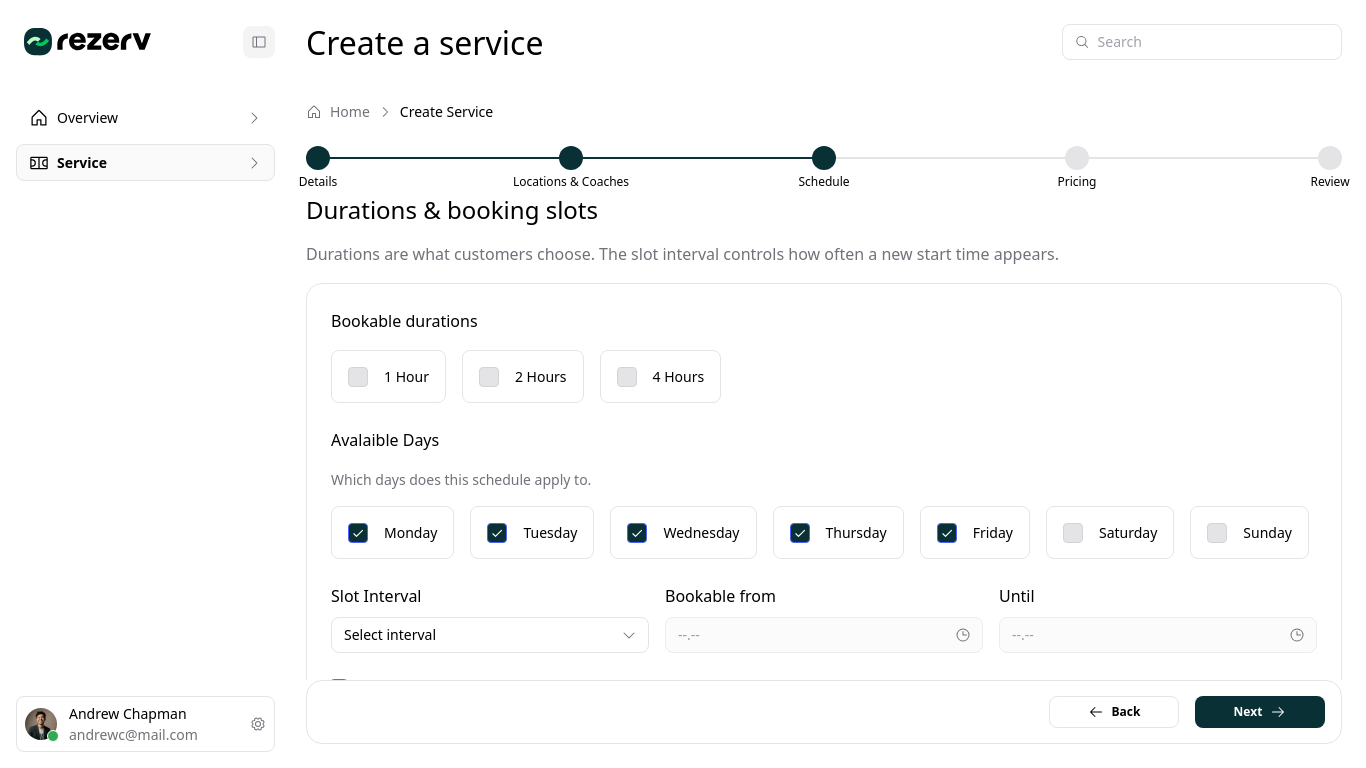
Test: the duration maths stays quiet until a package could never be booked
This screenshot has width=1366, height=768.
Expected: the dropdown labelled "Slot Interval" is shown, [331, 617, 649, 653]
Click the checkbox labelled "1 Hour": (388, 376) [331, 350, 446, 403]
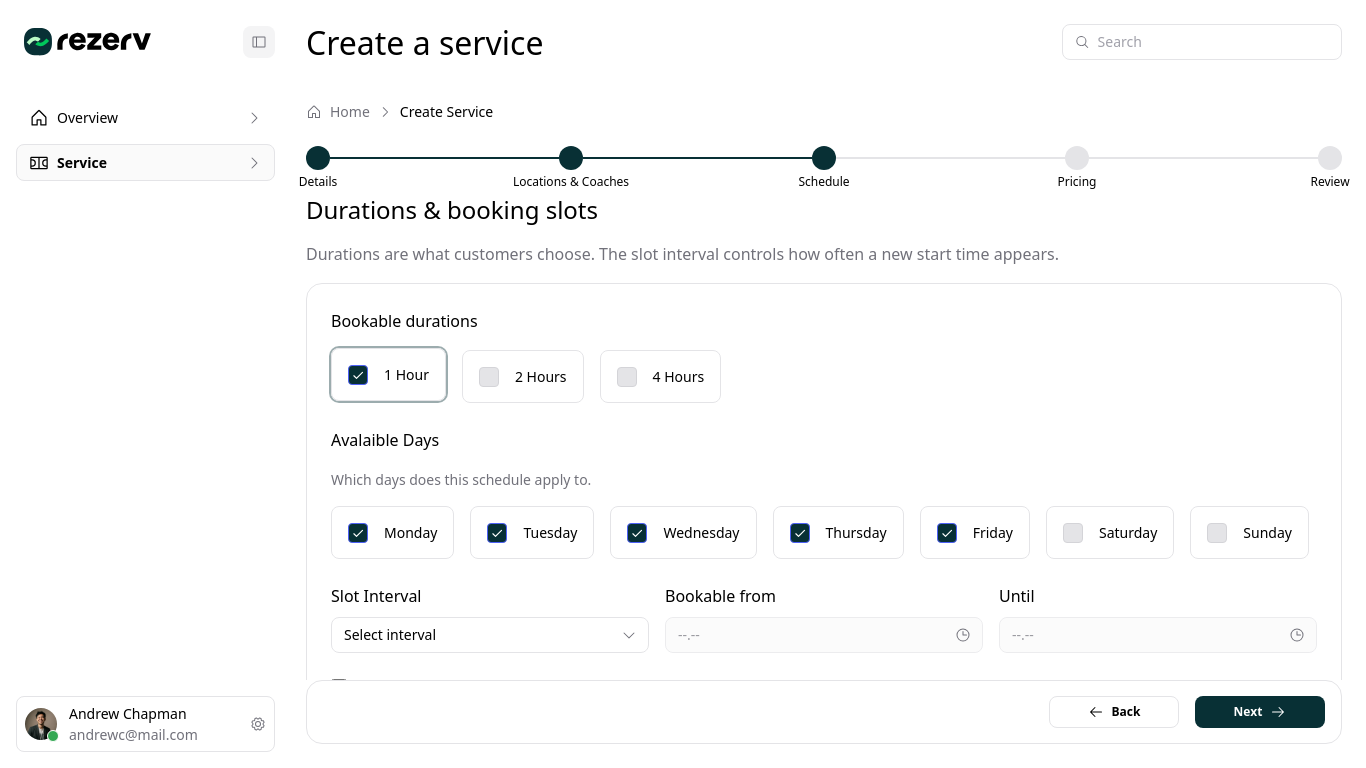
Click the checkbox labelled "4 Hours": (660, 376) [600, 350, 721, 403]
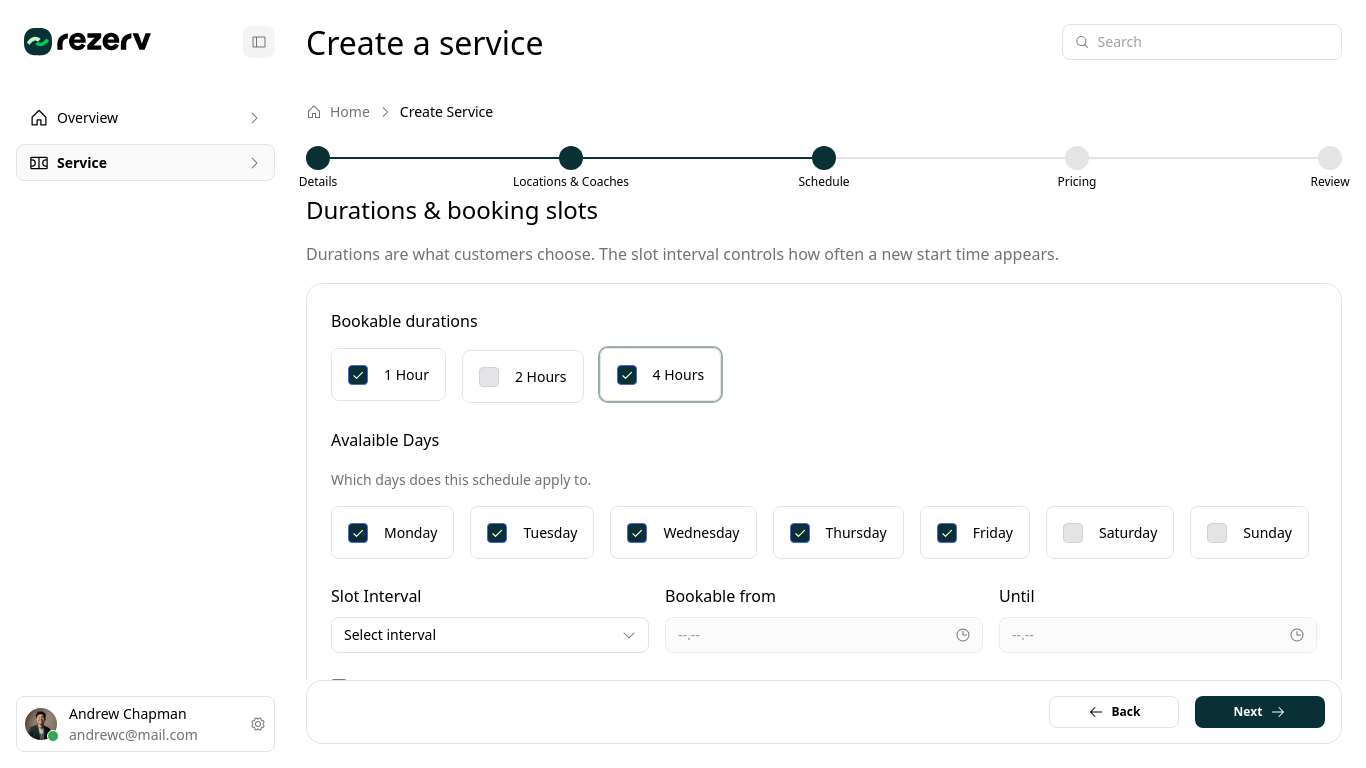
Select "Every Hour" in the dropdown labelled "Slot Interval": (490, 635) [331, 617, 649, 653]
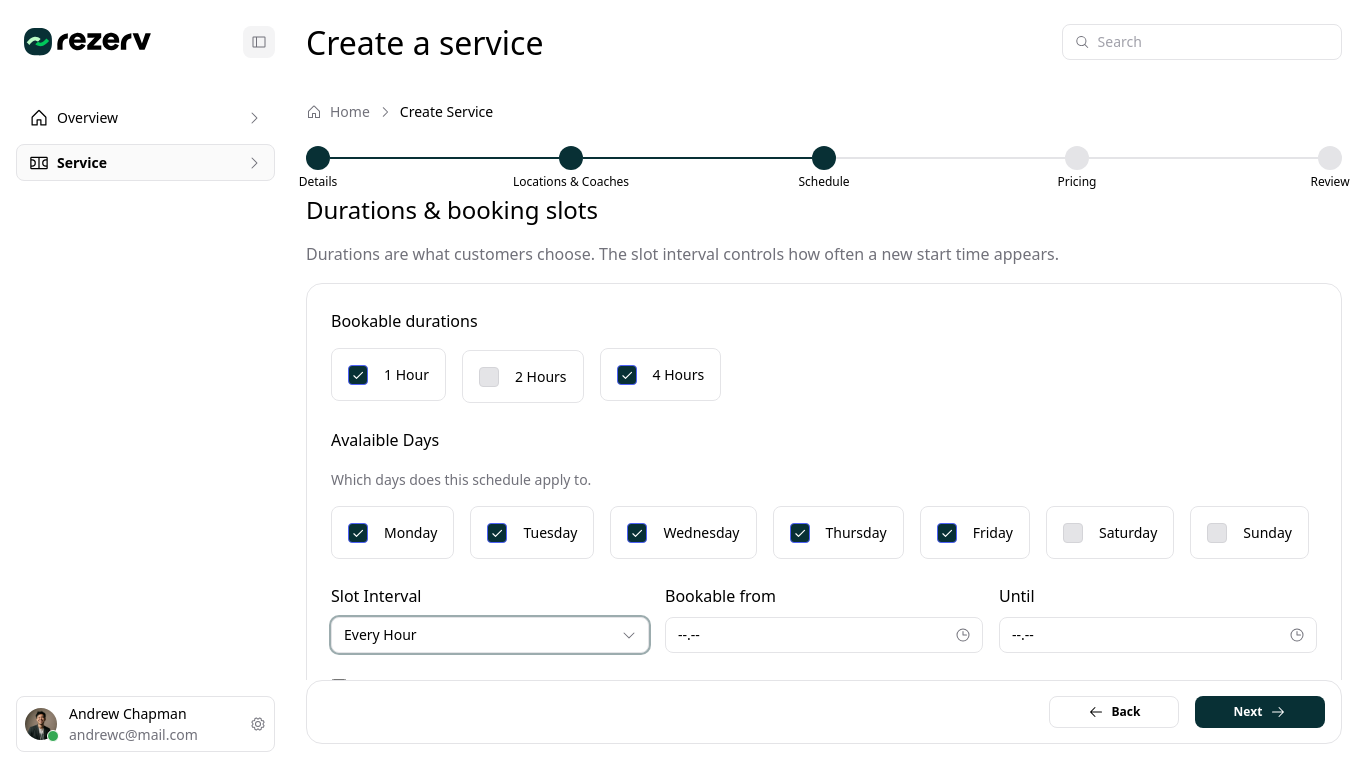
Select "12.00pm" in the dropdown labelled "Bookable from": (824, 635) [665, 617, 983, 653]
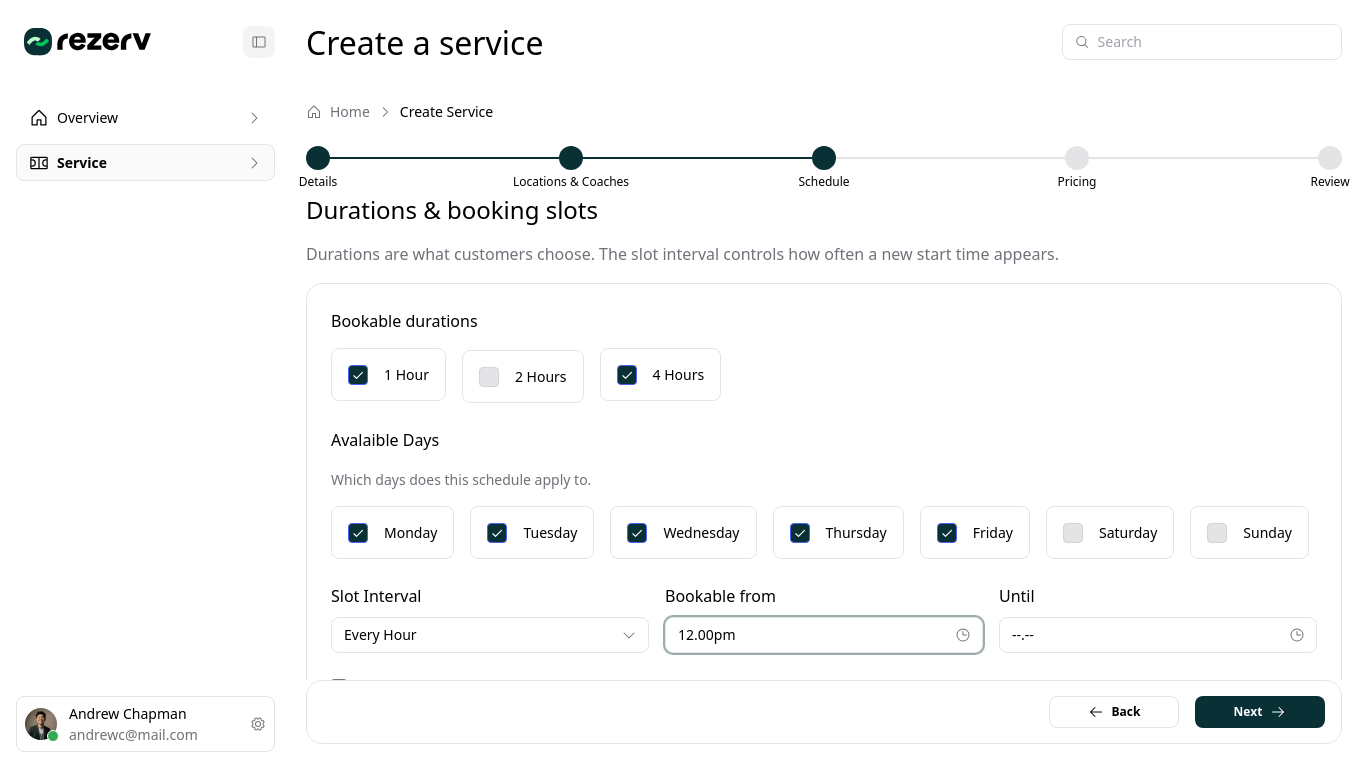
Select "4.00pm" in the dropdown labelled "Until": (1158, 635) [999, 617, 1317, 653]
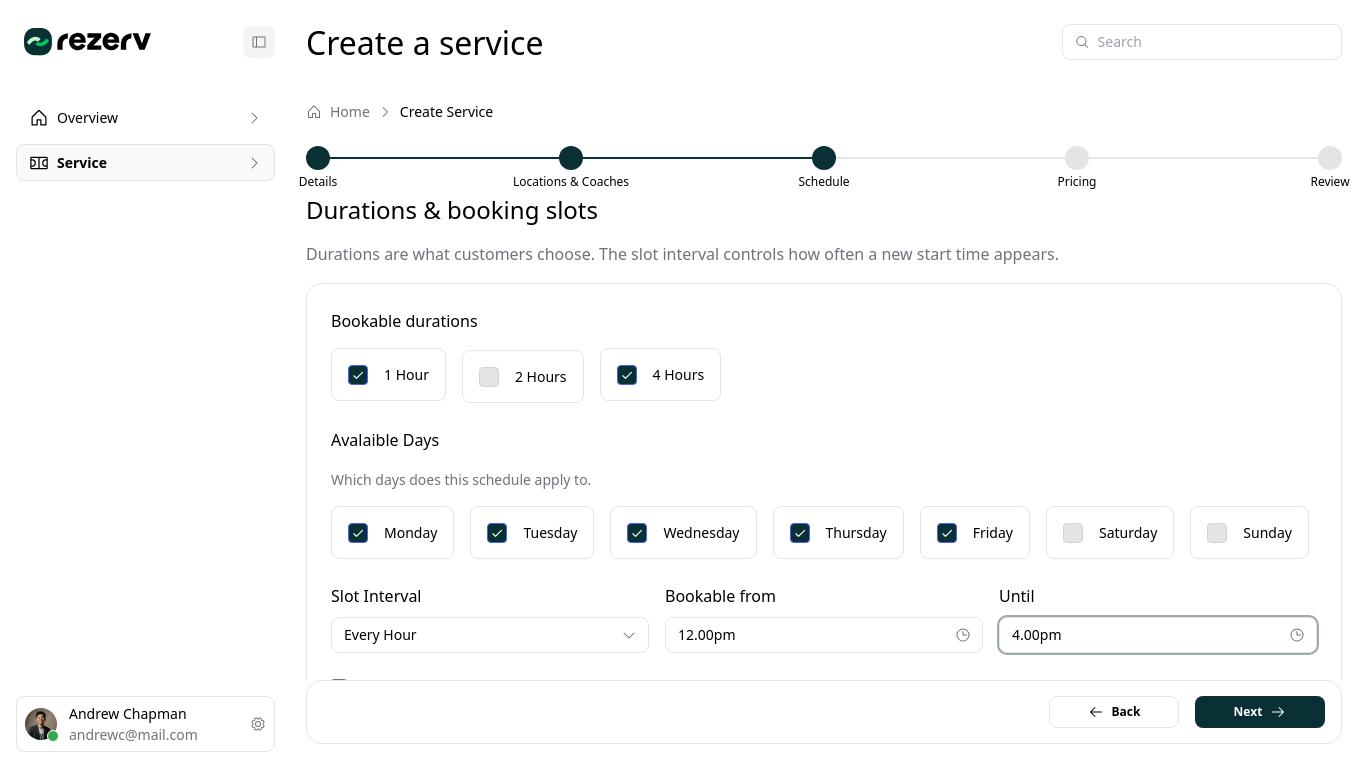
Expected: the text "doesn't fit the bookable hours" is not shown
Shrink the day below the longest package and only then does it speak up.
Select "3.00pm" in the dropdown labelled "Until": (1158, 635) [999, 617, 1317, 653]
(page scrolled)
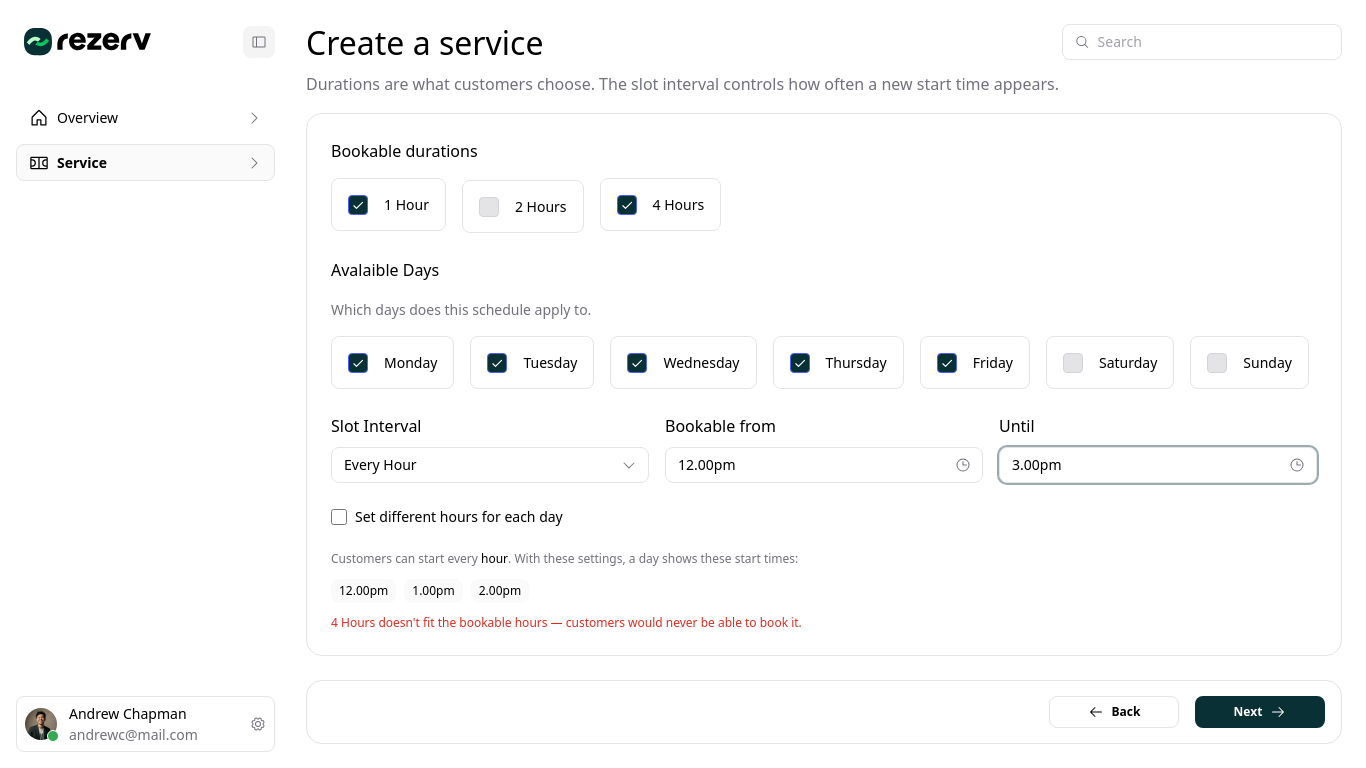
Expected: the text "4 Hours doesn't fit the bookable hours" is shown, [331, 614, 802, 631]
